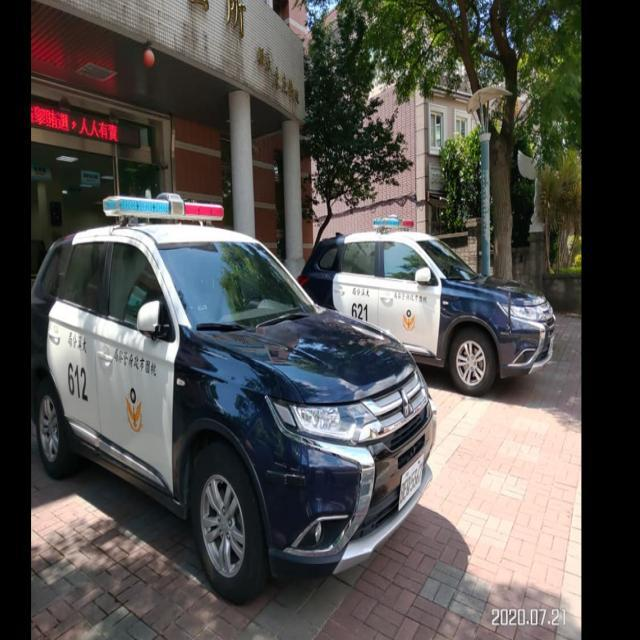police_car: (22, 172, 429, 610)
